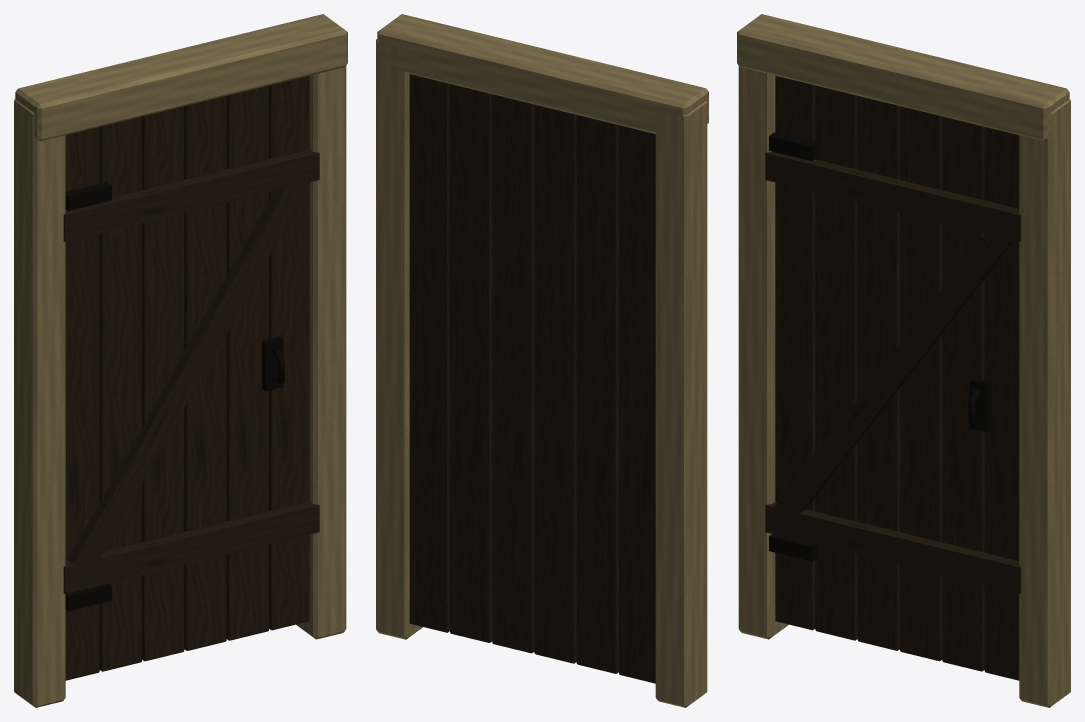
The model's file is door_frame.glb.
The picture shows the model from 3 angles, left to right: view 1: azimuth 30°, elevation 25°; view 2: azimuth 150°, elevation 25°; view 3: azimuth 330°, elevation 25°; orthographic projection.
Visible parts, largest first — view 1: door_frame; view 2: door_frame; view 3: door_frame.
Boxes of the visible parts, <box> form: door_frame: <box>14,14,347,707</box>; door_frame: <box>376,14,708,707</box>; door_frame: <box>737,14,1070,707</box>.
Size of the model in its own units: 1.23 by 2.27 by 0.2005.
Materials: 1 (1 with a texture image).
